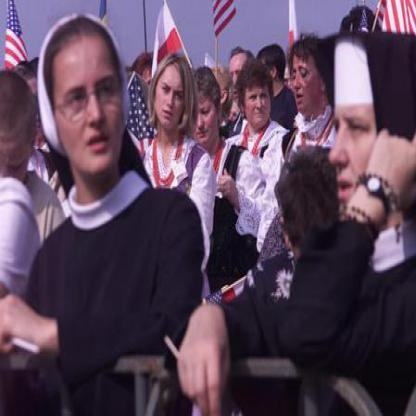face: (322, 37, 402, 233), (54, 16, 126, 183), (187, 76, 220, 149), (290, 45, 323, 116), (158, 57, 189, 130), (244, 69, 273, 130), (229, 52, 251, 102)
